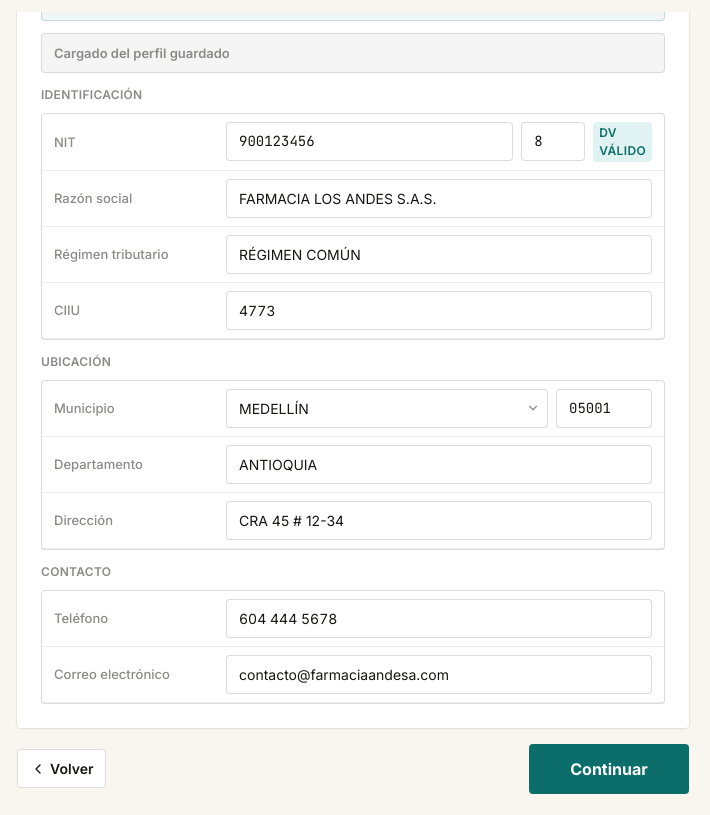
Test: CompanySetupWizard › edit mode › omits the automatic-billing strip on the summary when the draft carries a resolution
The width and height of the screenshot is (710, 815).
(page scrolled)
Click the button "Continuar" at x=609, y=769, box [529,744,689,794]
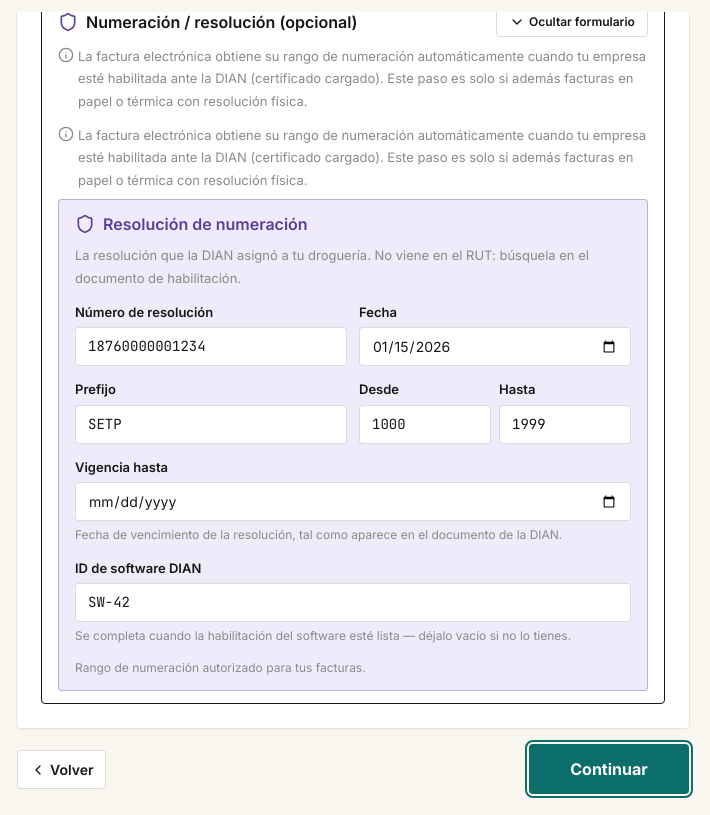
Click the button "Continuar" at x=609, y=770, box [529,744,689,794]
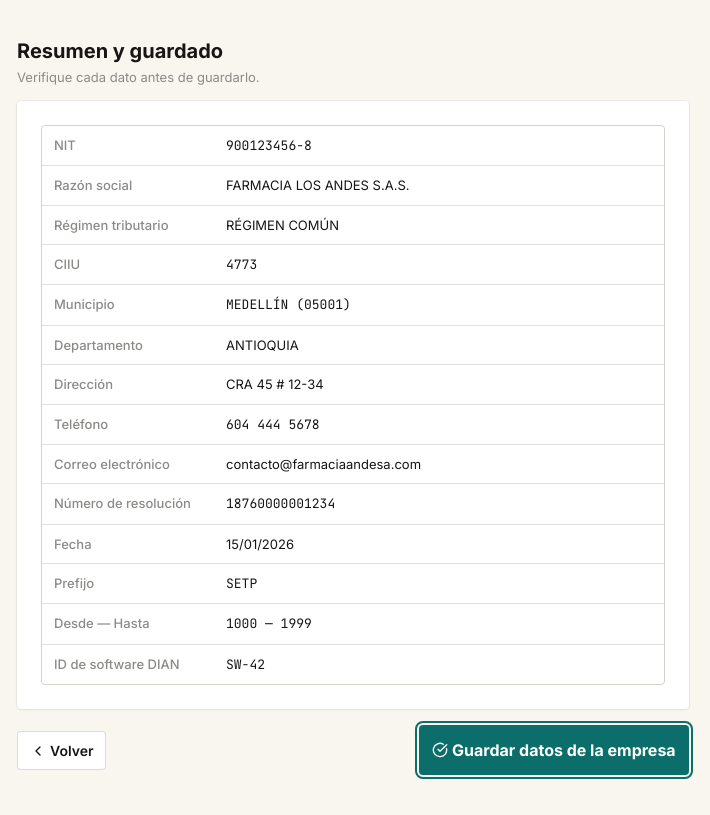
Expected: the message "Cargado del perfil guardado" is not shown
Expected: the text "Número de resolución" is shown, [54,492,214,515]
Expected: the heading "Resumen y guardado" is shown, [17,39,223,63]
